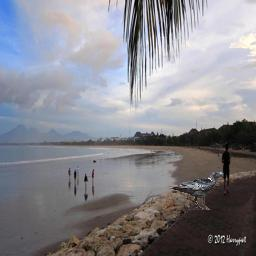Crow: (166, 171, 224, 210)
